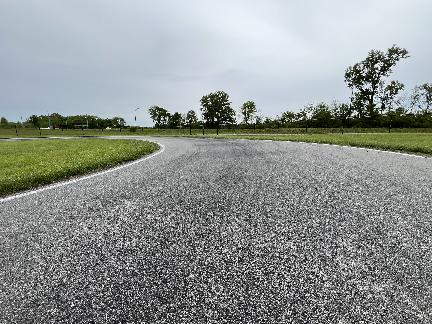Grass: (0, 139, 158, 194), (192, 134, 431, 154), (0, 127, 202, 137)
Lane: (0, 138, 431, 323)
